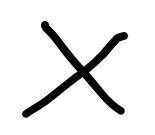mult: (22, 19, 128, 119)
